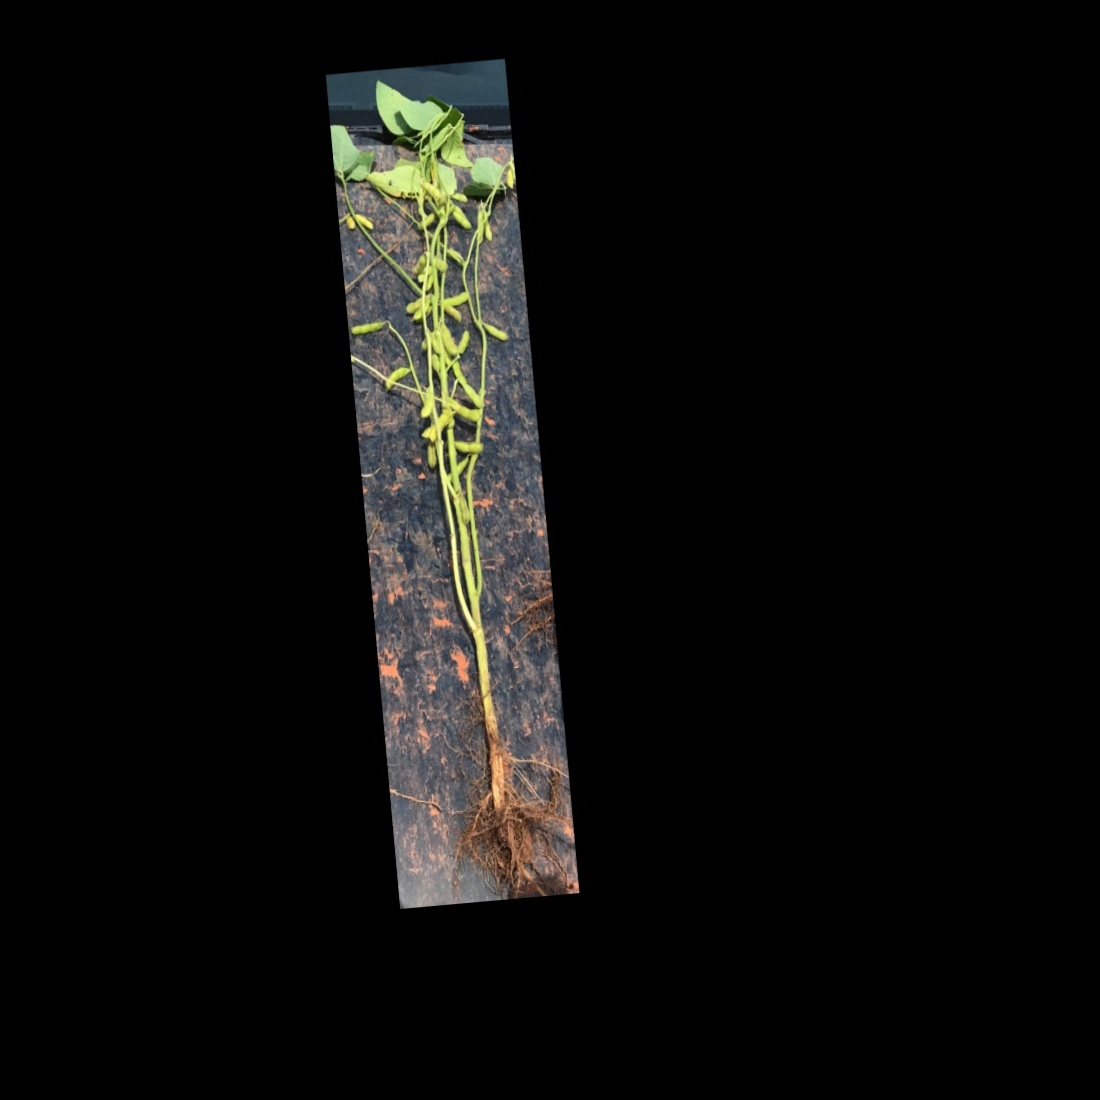pod: (380, 364, 414, 390), (482, 317, 511, 345), (348, 318, 388, 337), (449, 353, 468, 390), (450, 438, 486, 456), (438, 290, 470, 309), (447, 207, 473, 230), (453, 329, 472, 358), (356, 211, 377, 231)
soy: (329, 62, 575, 883)
